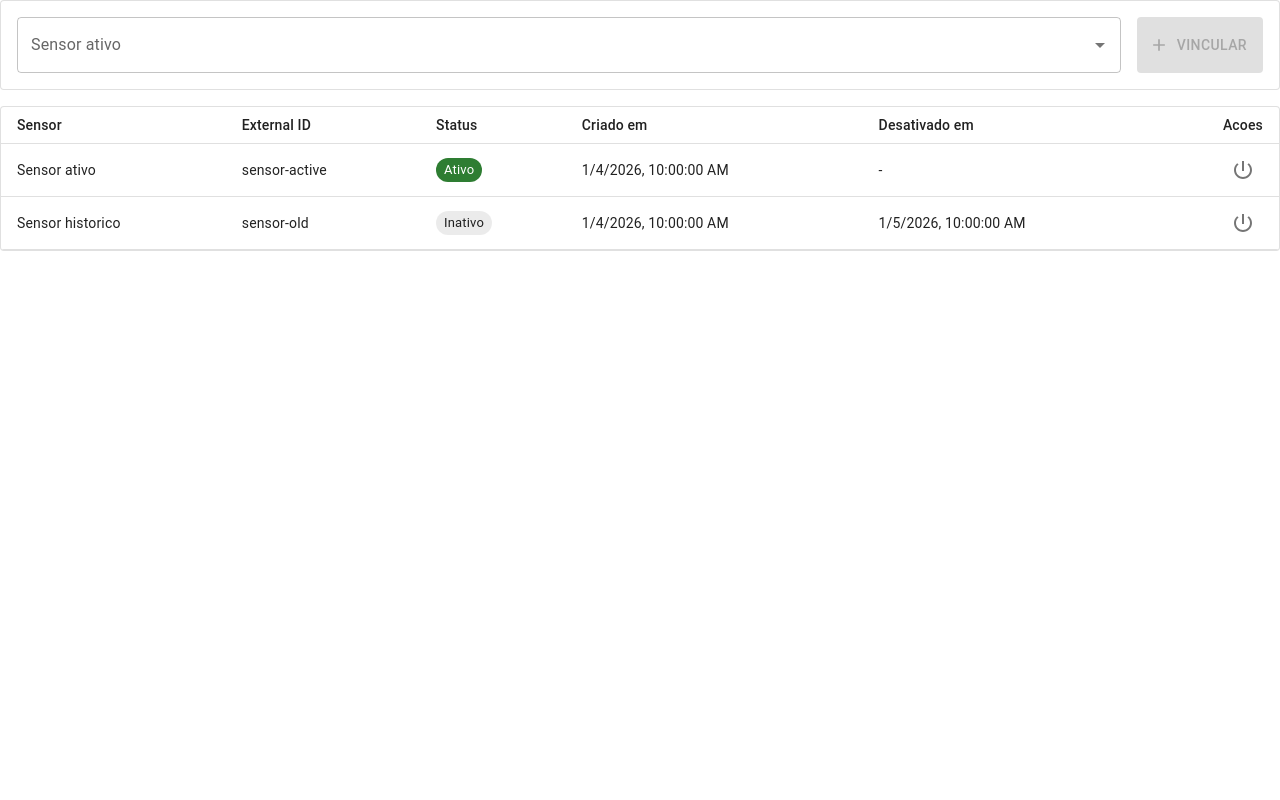
Test: bindings › shows specific messages for functional binding errors
Click the button named "Alterar binding" in the row of "Sensor historico" at [1243, 223], box x1=1223 y1=203 x2=1263 y2=243
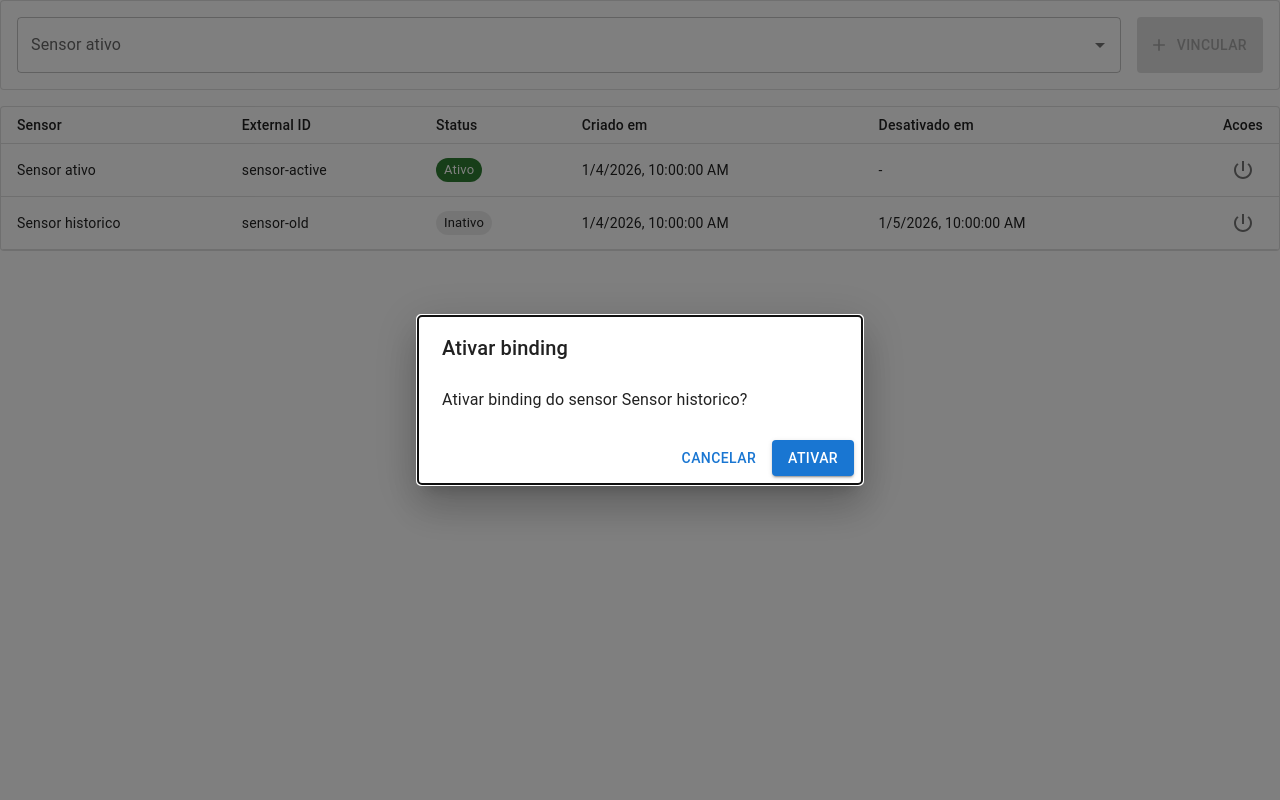
Click the button "Ativar" at [813, 458], box x1=772 y1=440 x2=854 y2=476
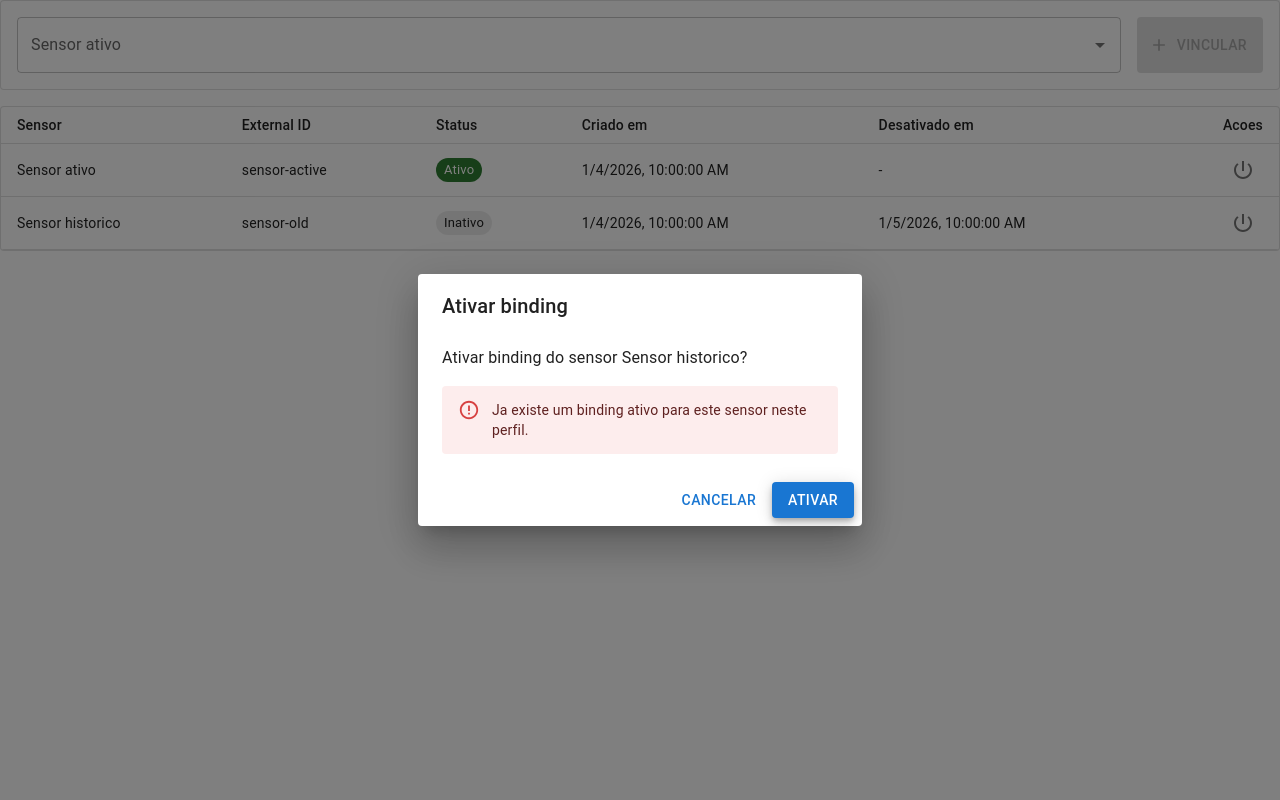
Now the text "Ja existe um binding ativo para este sensor neste perfil." is shown, box x1=492 y1=392 x2=822 y2=448
